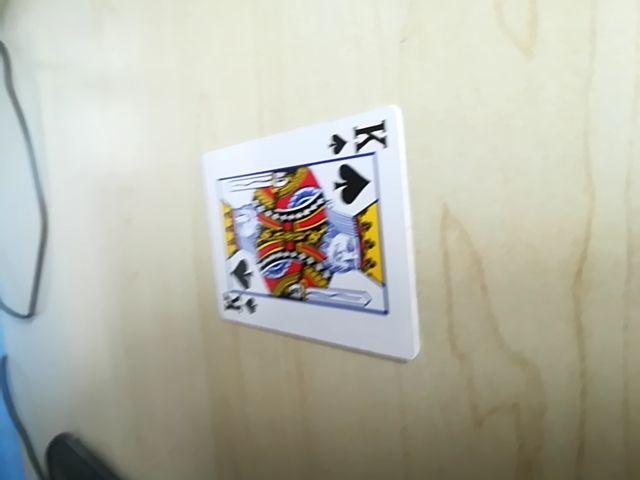ht k: (327, 120, 393, 157), (217, 283, 260, 318)
